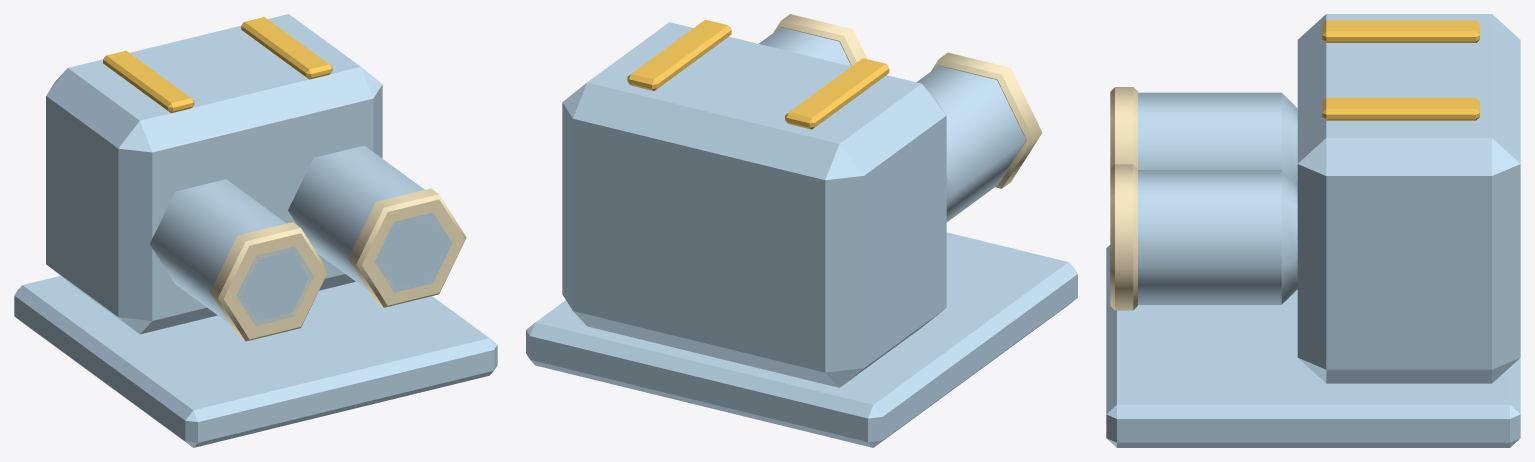
The model's file is R4X_DoubleShotPassive_LOD1.glb.
The picture shows the model from 3 angles, left to right: view 1: azimuth 30°, elevation 25°; view 2: azimuth 150°, elevation 25°; view 3: azimuth 270°, elevation 25°; orthographic projection. The views are drawn at different scales.
Visible parts, largest first — view 1: R4X_DoubleShotPassive_LOD1; view 2: R4X_DoubleShotPassive_LOD1; view 3: R4X_DoubleShotPassive_LOD1.
Boxes of the visible parts, x1,y1,x2,y2 form: R4X_DoubleShotPassive_LOD1: (14,14,497,447); R4X_DoubleShotPassive_LOD1: (526,14,1077,447); R4X_DoubleShotPassive_LOD1: (1106,14,1520,447).
Size of the model in its own units: 0.52 by 0.4157 by 0.52.
